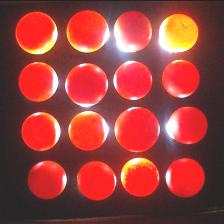fertile: (114, 106, 160, 152), (65, 62, 109, 106), (165, 156, 206, 196), (77, 160, 117, 200), (27, 159, 67, 199), (168, 105, 208, 143), (114, 60, 152, 100), (114, 10, 152, 50)
infertile: (15, 10, 59, 54), (66, 9, 110, 52), (159, 12, 199, 52), (120, 156, 160, 196), (68, 110, 108, 150), (18, 61, 58, 101), (21, 111, 61, 150), (162, 59, 200, 97)
